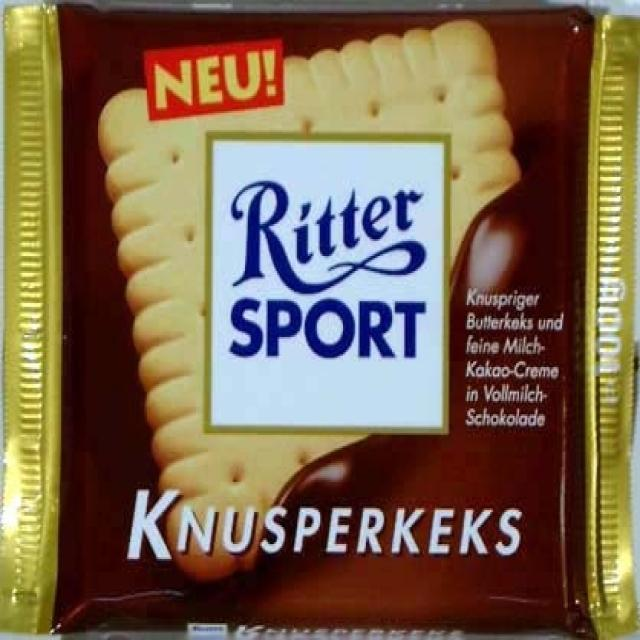rittersport: (202, 131, 451, 432)
